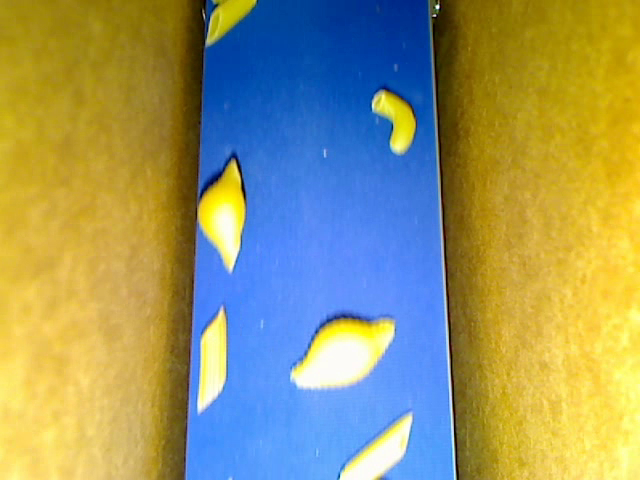elbow: (371, 90, 415, 153)
penne: (338, 408, 412, 479), (197, 304, 226, 413), (204, 1, 256, 46)
shell: (291, 314, 395, 390), (197, 156, 245, 273)
